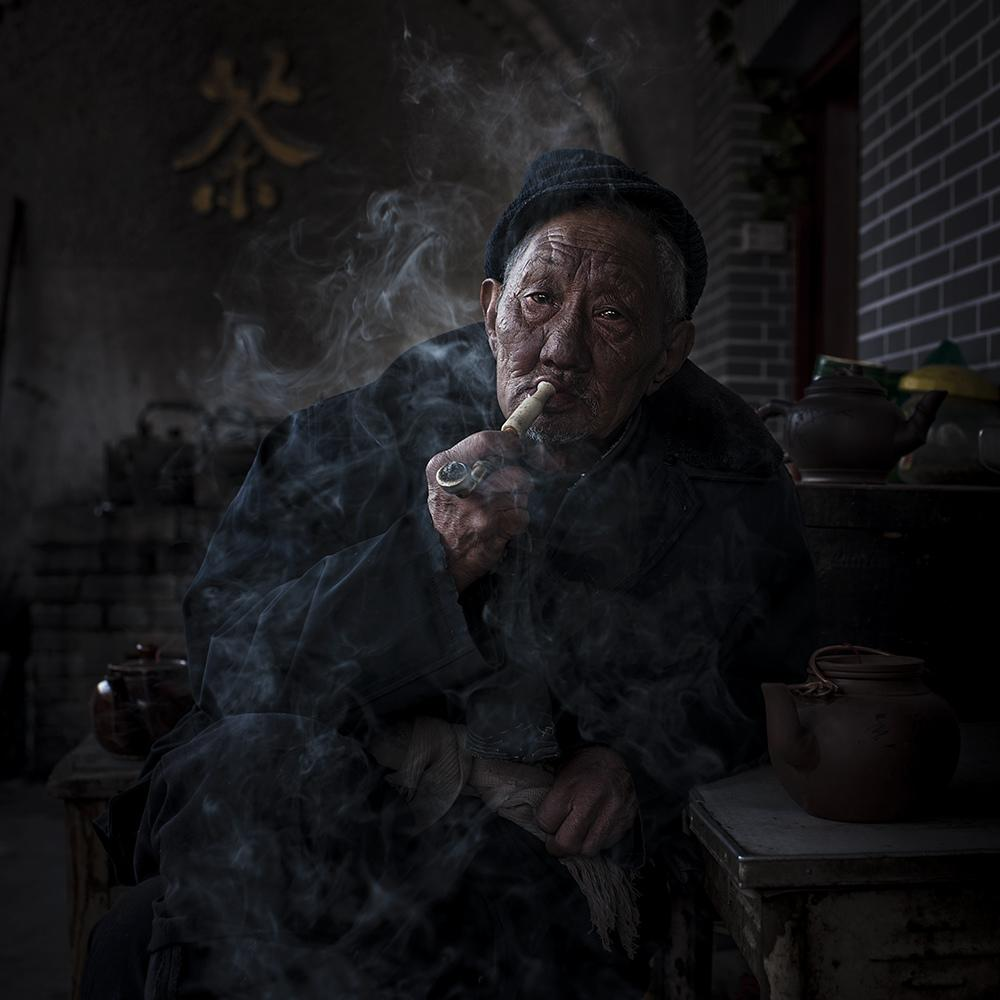smoking: (430, 356, 573, 505)
